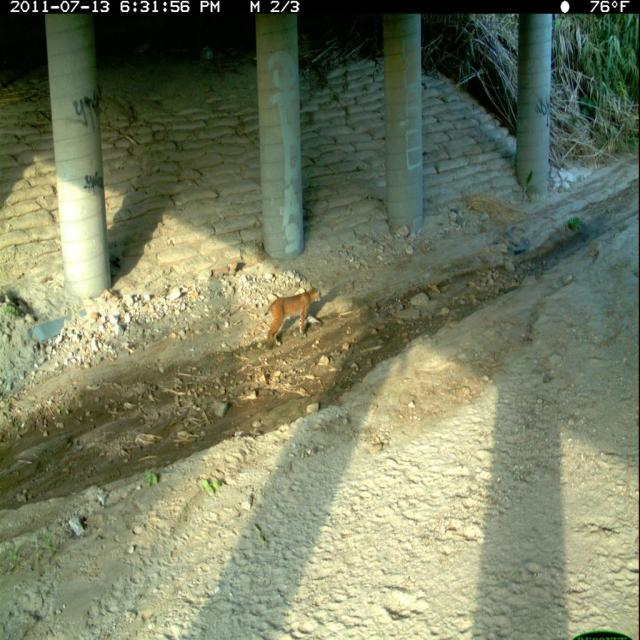bobcat: (261, 279, 328, 354)
